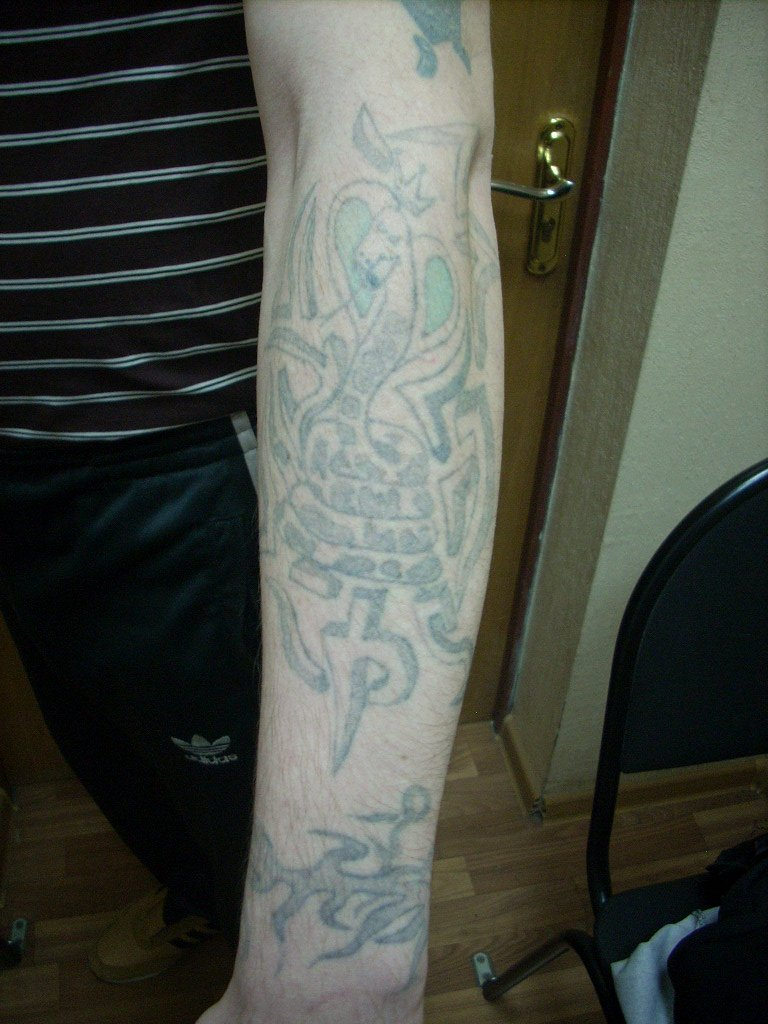tatu7_zmeya: (248, 223, 634, 609)
